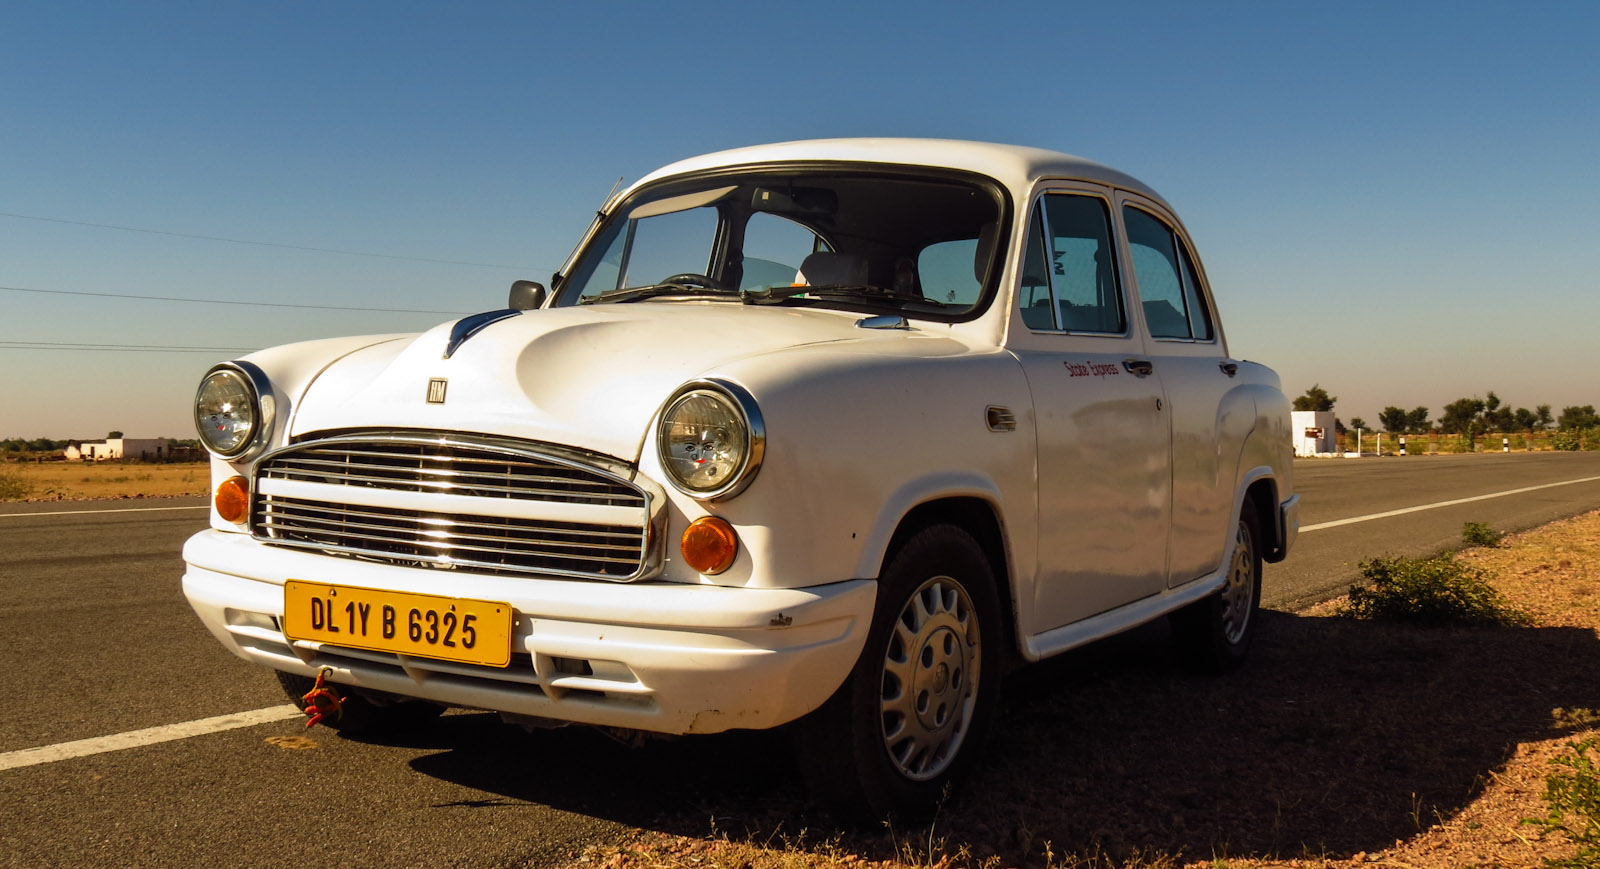Car: (165, 129, 1346, 808)
